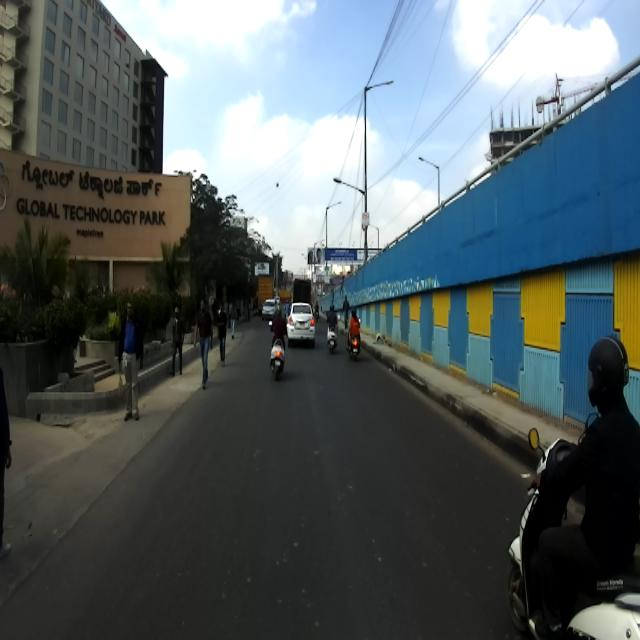motorcycle ahead at: (507, 425, 640, 640), (262, 330, 290, 384)
person ahead at: (118, 298, 152, 430), (192, 298, 215, 390), (168, 299, 184, 377)
